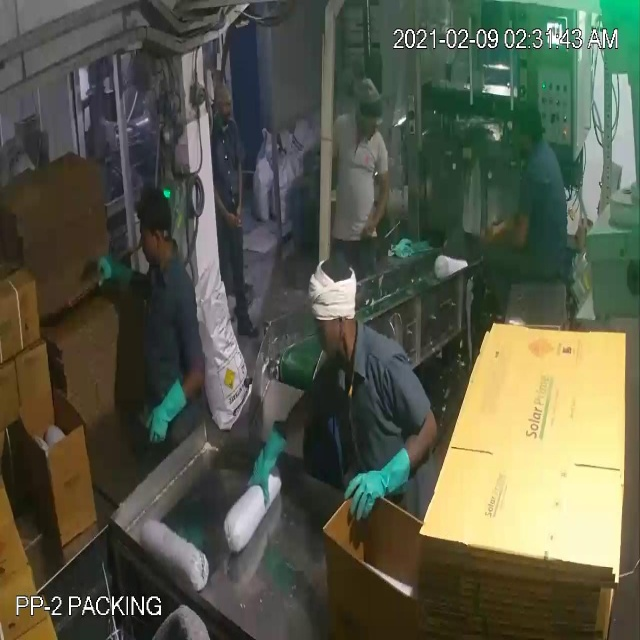Guantes: (330, 447, 423, 537), (240, 401, 297, 516), (140, 352, 199, 453), (86, 236, 153, 309)
Sin_guantes: (359, 148, 402, 250), (473, 199, 537, 265), (200, 164, 237, 239), (225, 150, 252, 228)
